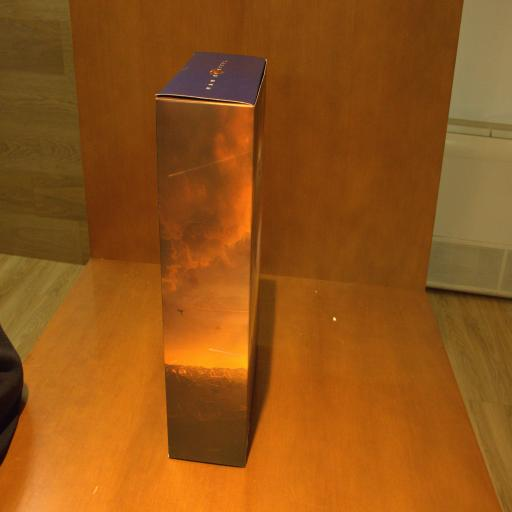superman: (154, 50, 268, 468)
